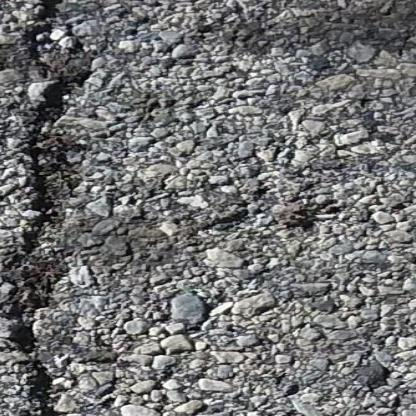Cracks: (2, 0, 119, 416)
